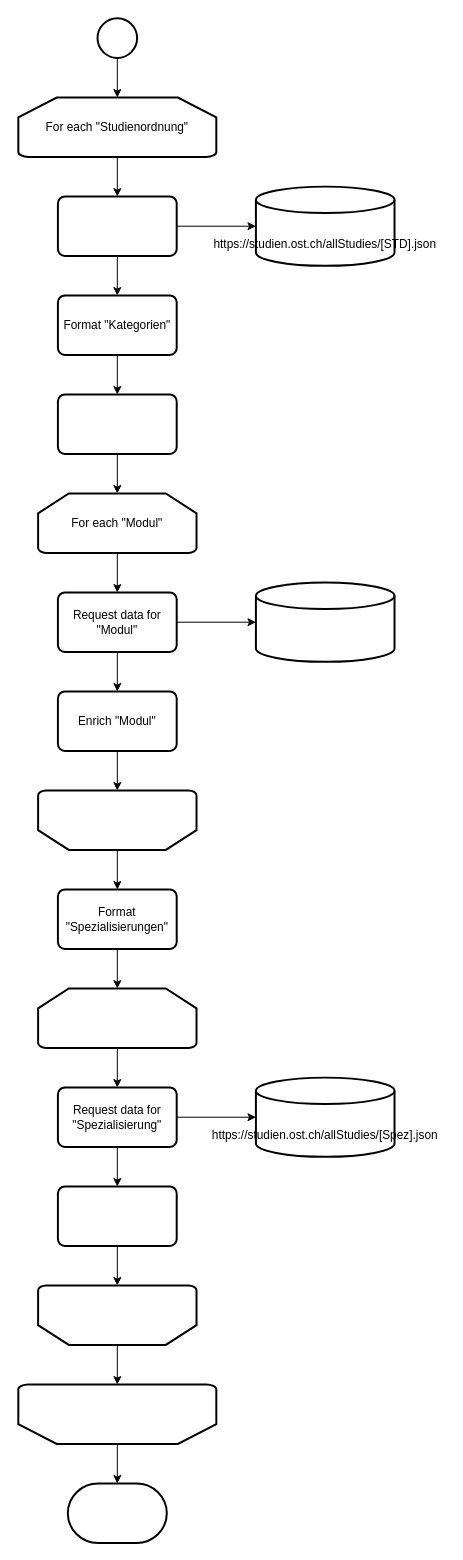
The diagram is 463 pixels wide and 1560 high, and some of its shapes have lost their labels. The shapes that lost their labels are listed below. From the top down, each one's box as (x1, y1, x2, y2) in pixels, then its label:
(56, 195, 177, 256): Request data for "Studienordnung"
(56, 393, 177, 454): Format "Module"
(254, 581, 395, 662): https://studien.ost.ch/ allModules/[Module].json
(37, 987, 197, 1048): For each "Spezialisierung"
(56, 1185, 177, 1246): Save data to local json file
